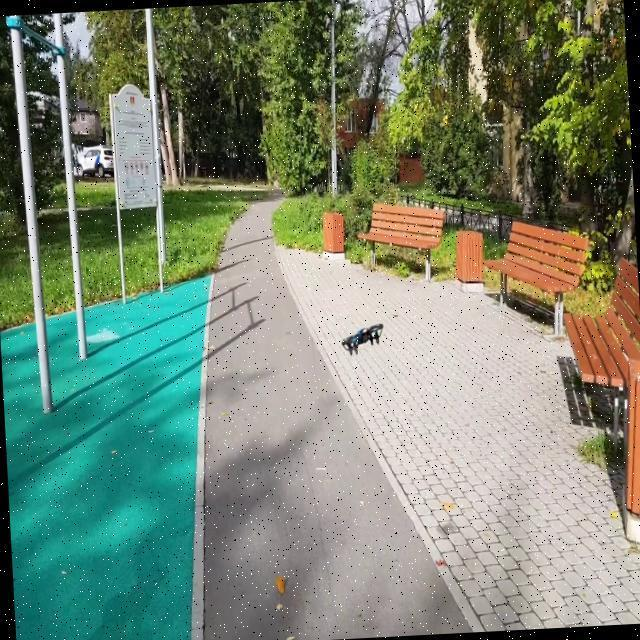Drons: (338, 319, 388, 358)
